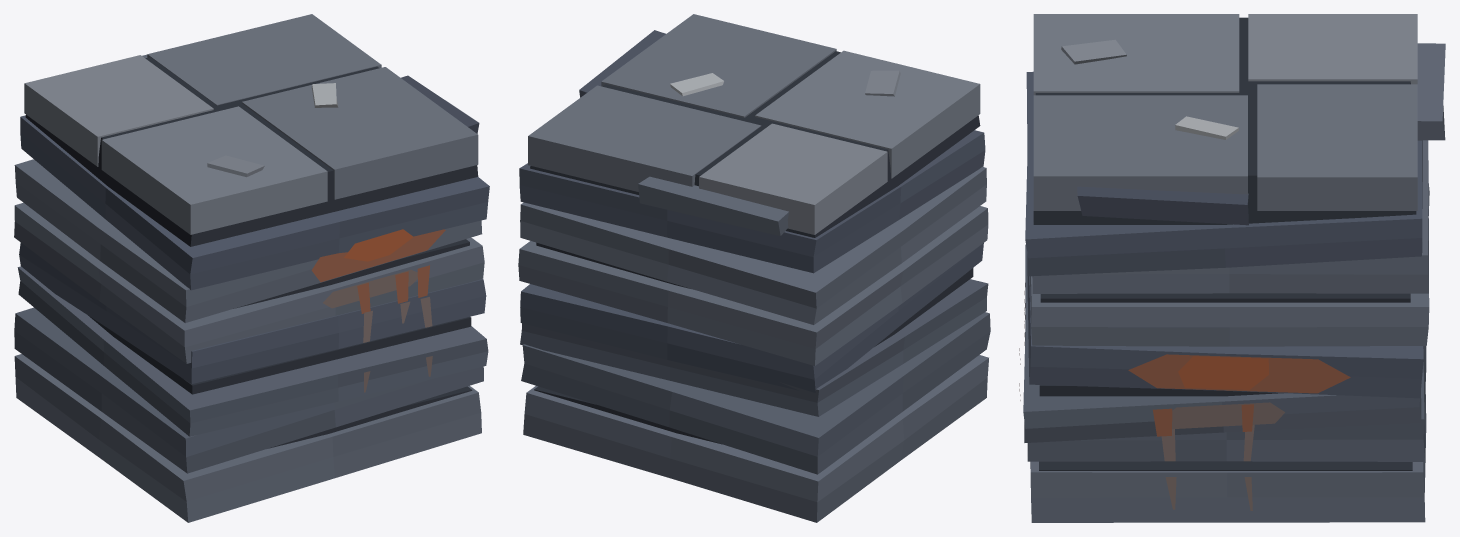
Rendered from cliff_slate.glb.
The picture shows the model from 3 angles, left to right: view 1: azimuth 30°, elevation 25°; view 2: azimuth 150°, elevation 25°; view 3: azimuth 270°, elevation 25°; orthographic projection. The views are drawn at different scales.
Visible parts, largest first — view 1: cliff_slate; view 2: cliff_slate; view 3: cliff_slate.
Boxes of the visible parts, <box> form: cliff_slate: <box>14,14,489,522</box>; cliff_slate: <box>518,14,990,522</box>; cliff_slate: <box>1019,14,1445,522</box>.
Bounding box in the file's own units: 1.11 × 1.07 × 1.11.
